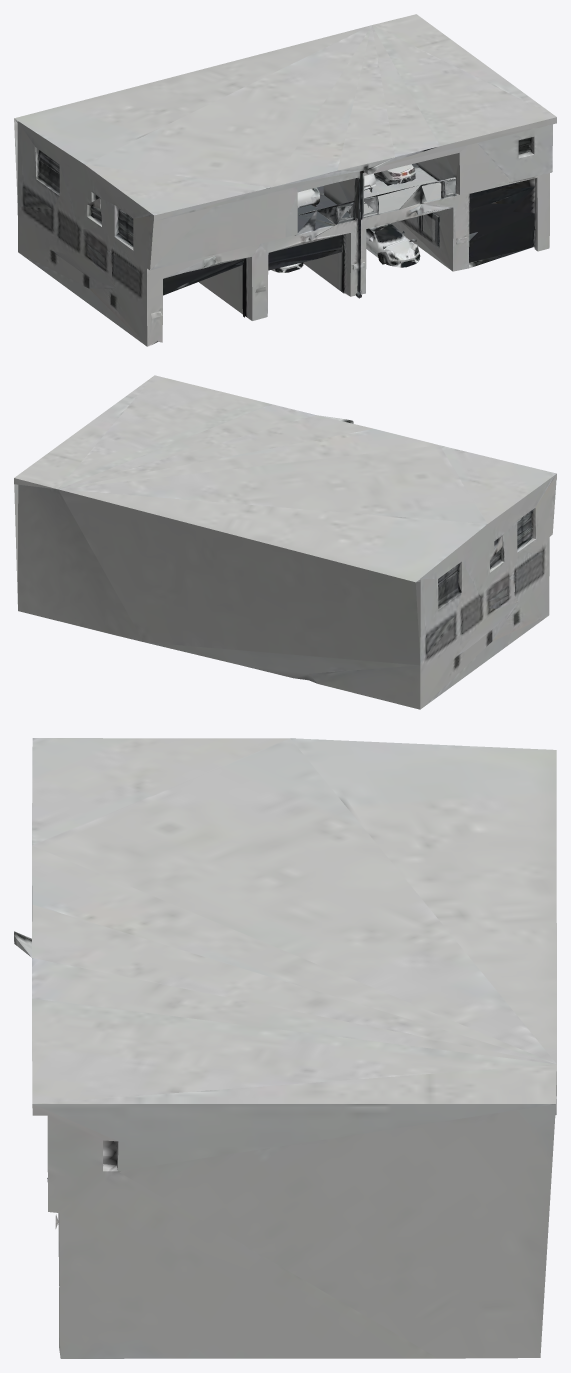
Rendered from pit.glb.
3 views of the same model, one above another, from view 1: azimuth 30°, elevation 25°; view 2: azimuth 150°, elevation 25°; view 3: azimuth 270°, elevation 25° (orthographic). The views are drawn at different scales.
Parts seen in each view (by area): view 1: output_unwrapped; view 2: output_unwrapped; view 3: output_unwrapped.
Boxes of the visible parts, <box> form: output_unwrapped: <box>14,14,556,346</box>; output_unwrapped: <box>14,375,556,709</box>; output_unwrapped: <box>14,738,556,1358</box>.
Size of the model in its own units: 1.9 by 0.6183 by 1.19.
1 material, 1 textured.
